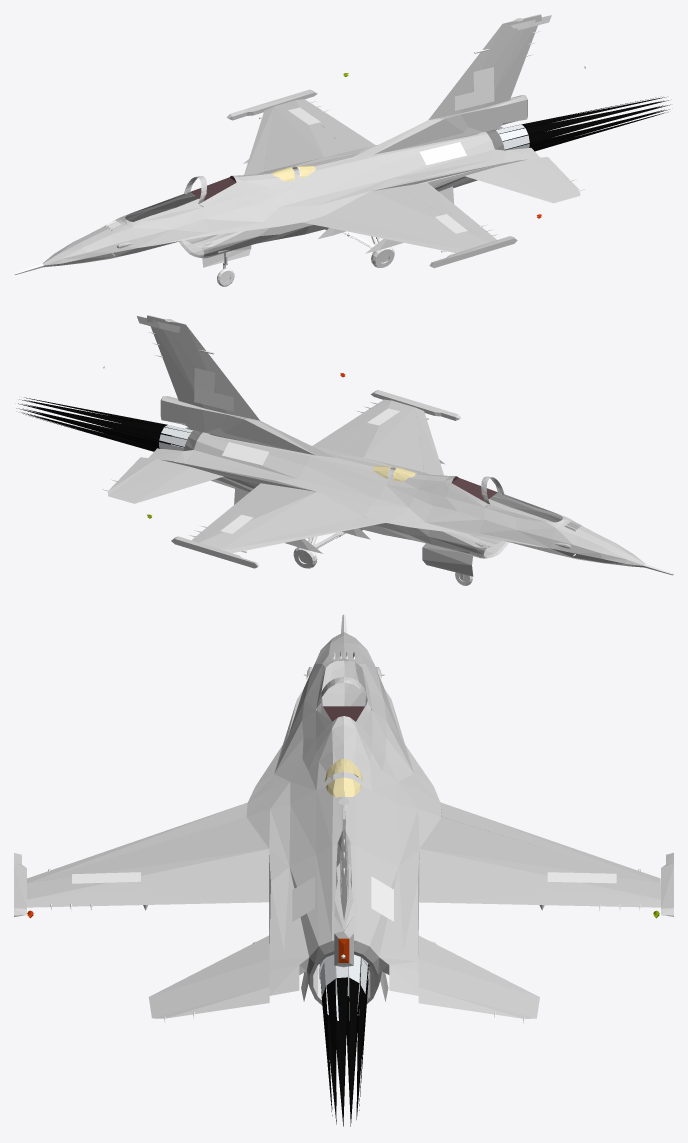
The model's file is general_dynamics_f16_falcon.glb.
3 views of the same model, one above another, from view 1: azimuth 30°, elevation 25°; view 2: azimuth 150°, elevation 25°; view 3: azimuth 270°, elevation 25° (orthographic). The views are drawn at different scales.
Parts seen in each view (by area): view 1: RadarDomeTop, ExternalFlame, LeftUpperHorizonTail, Tail, RNLAF_Tailroot, USAF_Tailroot, WingTips, LeftUpperLef, LeftUpperFlap, RightUpperLef, Rudder.003, RightUpperFlap (+4 smaller); view 2: RadarDomeTop, ExternalFlame, RightUpperHorizonTail, Tail, RNLAF_Tailroot, USAF_Tailroot, WingTips, RightUpperLef, RightUpperFlap, LeftUpperLef, Rudder.003, LeftUpperFlap (+5 smaller); view 3: RadarDomeTop, RightUpperHorizonTail, LeftUpperHorizonTail, ExternalFlame, RightUpperFlap, LeftUpperFlap, LeftUpperLef, RightUpperLef, WingTips, RNLAF_Tailroot, Poly.002, LeftUpperAileron (+5 smaller).
Part boxes in pixels (x1,y1,x2,y2): RadarDomeTop: (14, 100, 515, 274); ExternalFlame: (495, 97, 670, 151); LeftUpperHorizonTail: (464, 157, 585, 203); Tail: (428, 14, 541, 119); RNLAF_Tailroot: (398, 95, 527, 149); USAF_Tailroot: (354, 114, 506, 156); WingTips: (226, 89, 517, 268); LeftUpperLef: (302, 216, 466, 252); LeftUpperFlap: (397, 182, 478, 226); RightUpperLef: (244, 107, 273, 174); Rudder.003: (484, 25, 540, 107); RightUpperFlap: (311, 113, 375, 151); RadarDomeTop: (173, 400, 673, 575); ExternalFlame: (16, 397, 192, 451); RightUpperHorizonTail: (102, 457, 223, 503); Tail: (147, 315, 259, 420); RNLAF_Tailroot: (160, 396, 292, 450); USAF_Tailroot: (183, 415, 334, 457); WingTips: (171, 390, 461, 568); RightUpperLef: (221, 516, 385, 553); RightUpperFlap: (209, 483, 290, 527); LeftUpperLef: (415, 407, 443, 475); Rudder.003: (149, 326, 203, 407); LeftUpperFlap: (313, 414, 375, 451); RadarDomeTop: (27, 614, 660, 979); RightUpperHorizonTail: (418, 935, 539, 1023); LeftUpperHorizonTail: (148, 935, 269, 1023); ExternalFlame: (319, 954, 369, 1126); RightUpperFlap: (419, 873, 592, 905); LeftUpperFlap: (97, 873, 269, 905); LeftUpperLef: (27, 802, 247, 883); RightUpperLef: (440, 802, 660, 882); WingTips: (14, 852, 673, 916); RNLAF_Tailroot: (334, 850, 353, 967); Poly.002: (306, 940, 381, 1005); LeftUpperAileron: (27, 892, 98, 911).
Size of what is drawn, in the model's own units: 17.81 by 5.04 by 9.59.
